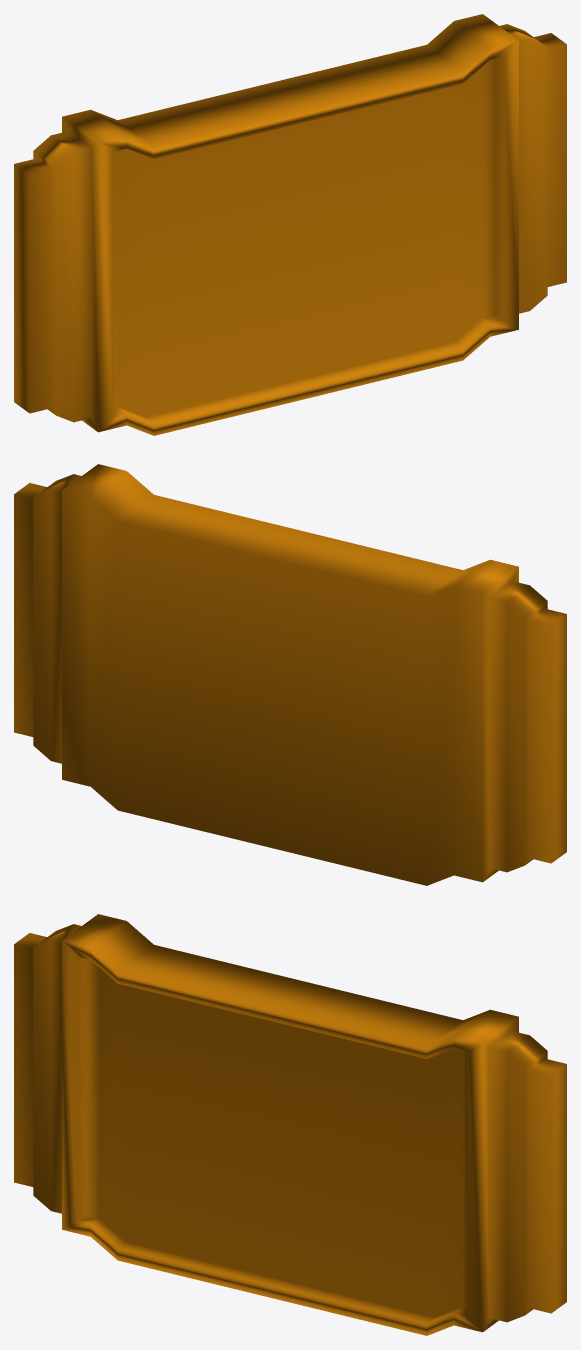
The model's file is button_4.fbx.
3 views of the same model, one above another, from view 1: azimuth 30°, elevation 25°; view 2: azimuth 150°, elevation 25°; view 3: azimuth 330°, elevation 25° (orthographic).
Parts seen in each view (by area): view 1: B4_big; view 2: B4_big; view 3: B4_big.
Boxes of the visible parts, left/top/right/bottom form: B4_big: left=14, top=14, right=566, bottom=435; B4_big: left=14, top=464, right=566, bottom=885; B4_big: left=14, top=914, right=566, bottom=1335.
Bounding box in the file's own units: 6.27 × 3.42 × 0.7328.
